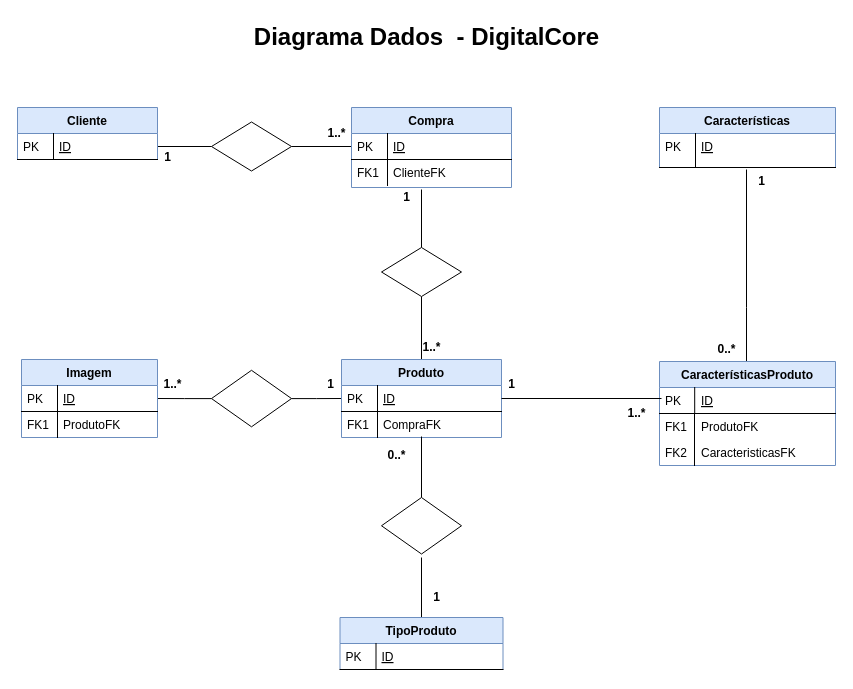
Some shapes in this 853 by 689 pixel diagram are drawn without their labels. Here are the shapes that lost their labels. From the top down, the centre of each, then its label:
point 251,146: Efetua
point 421,271: Contém
point 251,398: Tem
point 421,525: Pertence
